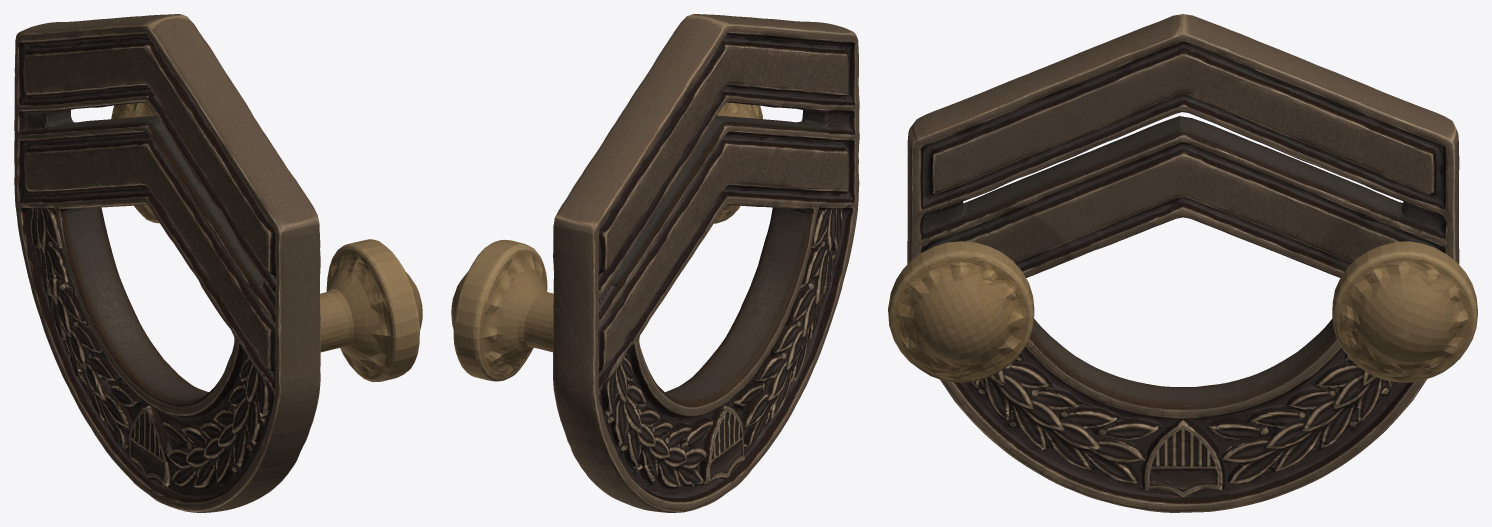
Rendered from army_enlistee_insignia.glb.
3 views of the same model, side by side, from view 1: azimuth 30°, elevation 25°; view 2: azimuth 150°, elevation 25°; view 3: azimuth 270°, elevation 25° (orthographic). The views are drawn at different scales.
Parts seen in each view (by area): view 1: accessory; view 2: accessory; view 3: accessory.
Boxes of the visible parts, <box> form: accessory: <box>14,14,422,512</box>; accessory: <box>451,14,859,512</box>; accessory: <box>888,14,1477,512</box>.
Size of the model in its own units: 0.0261 by 0.0729 by 0.08.
Materials: 1 (1 with a texture image).
